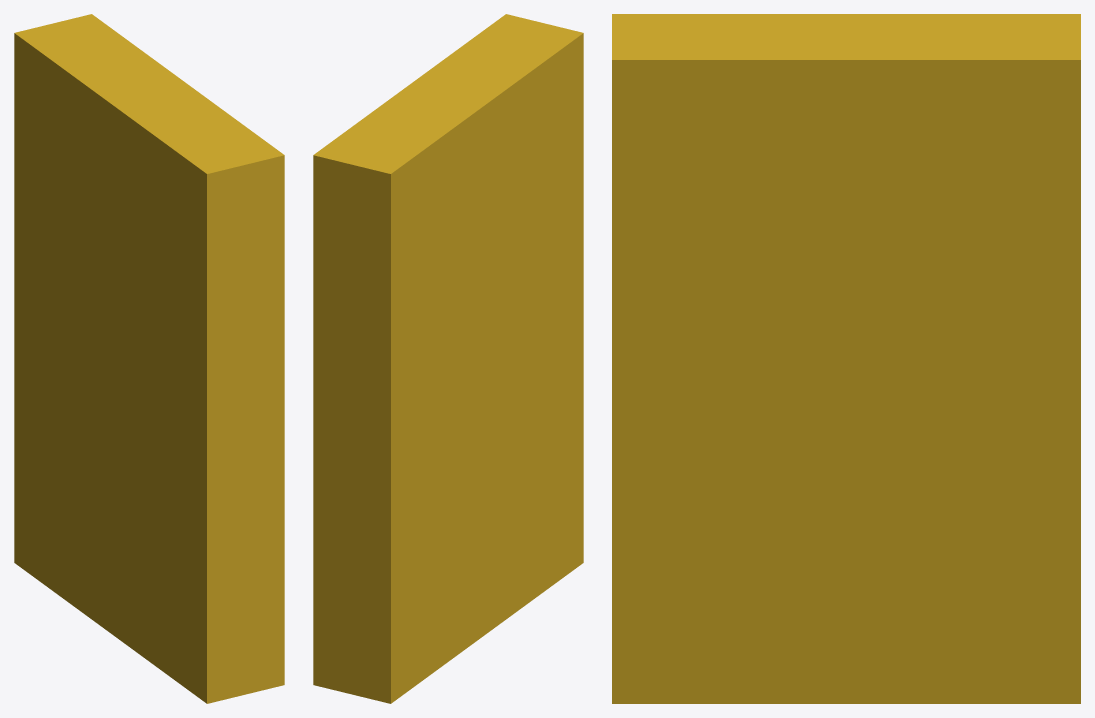
The model's file is vault_door_open.obj.
3 views of the same model, side by side, from view 1: azimuth 30°, elevation 25°; view 2: azimuth 150°, elevation 25°; view 3: azimuth 270°, elevation 25° (orthographic). The views are drawn at different scales.
Visible parts, largest first — view 1: vault_door_open; view 2: vault_door_open; view 3: vault_door_open.
Part boxes in pixels (x1=…): vault_door_open: x1=14, y1=14, x2=284, y2=703; vault_door_open: x1=313, y1=14, x2=583, y2=703; vault_door_open: x1=612, y1=14, x2=1080, y2=703.
Bounding box in the file's own units: 0.46 × 3 × 1.98.
